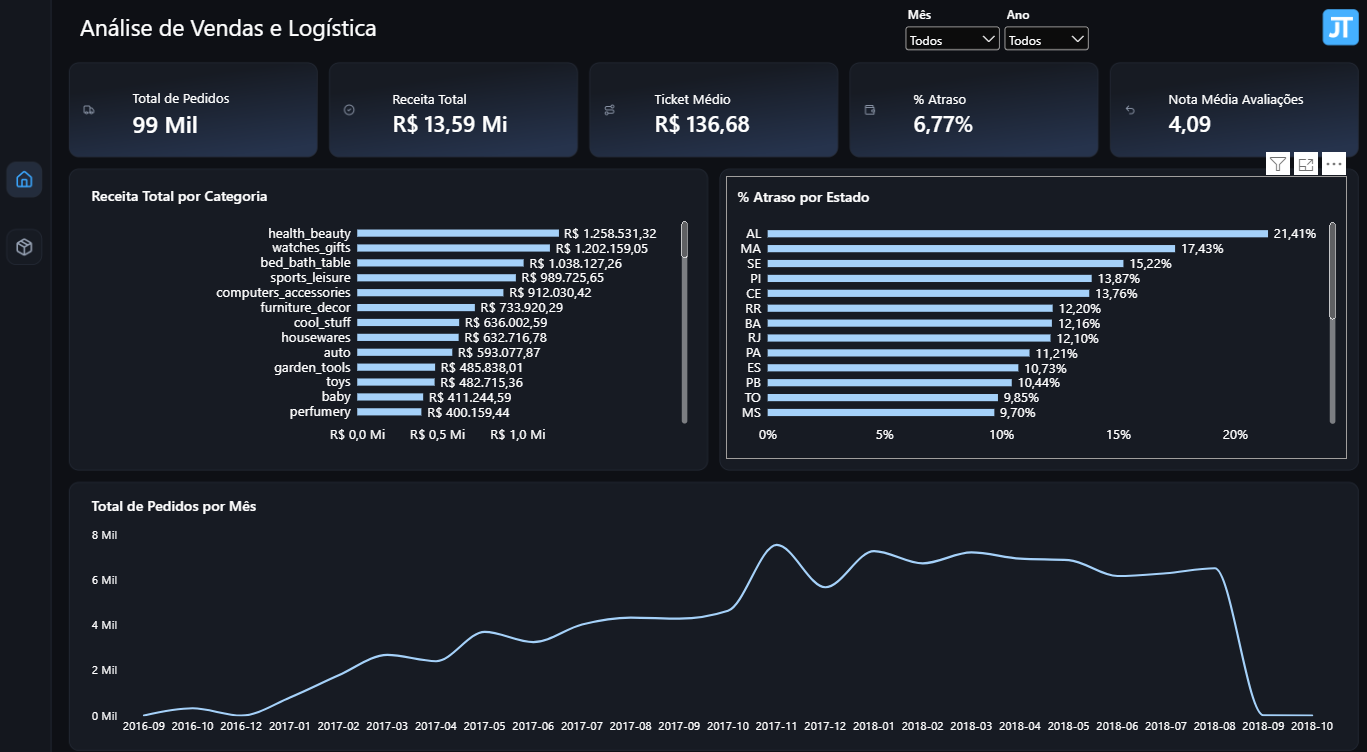

Layout of this report page (visuals, bound fields, positions):
{"tool":"powerbi","page":{"name":"Visão Geral","canvas":[1920,1080],"ordinal":0},"visuals":[{"type":"cardVisual","fields":{"Data":["Medidas.Total de Pedidos"]},"box":[172.9,118.4,251.6,104.2],"z":0},{"type":"cardVisual","fields":{"Data":["Medidas.Receita Total"]},"box":[534.7,118.4,268.7,104.4],"z":1000},{"type":"cardVisual","fields":{"Data":["Medidas.Ticket Médio"]},"box":[899.1,118.4,231.1,104.4],"z":2000},{"type":"cardVisual","fields":{"Data":["Medidas.% Atraso"]},"box":[1259.6,118.4,247.8,104.4],"z":3000},{"type":"cardVisual","fields":{"Data":["Medidas.Nota Média"]},"box":[1614.7,118.4,264.5,104.4],"z":4000},{"type":"clusteredBarChart","title":"Receita Total por Categoria","fields":{"Category":["fact_orders.main_category"],"Y":["Medidas.Receita Total"]},"box":[115.7,255.4,861.9,395],"z":5000},{"type":"lineChart","title":"Total de Pedidos por Mês","fields":{"Category":["fact_orders.purchase_month"],"Y":["Medidas.Total de Pedidos"]},"box":[115.7,686.3,1763.6,367.1],"z":6000},{"type":"clusteredBarChart","title":"% Atraso por Estado","fields":{"Category":["fact_orders.customer_state"],"Y":["Medidas.% Atraso"]},"box":[1014.8,256.7,864.6,394],"z":7000},{"type":"textbox","box":[115.6,26.5,664.1,47.3],"z":7001},{"type":"actionButton","box":[15.3,332.8,46,46],"z":7002},{"type":"slicer","fields":{"Values":["dCalendario.Ano"]},"box":[1397.9,18.1,126.7,64],"z":7003},{"type":"slicer","fields":{"Values":["dCalendario.MesNome"]},"box":[1260,18.1,140.6,64],"z":7004}]}

Visuals, with their boxes on the page's 1920x1080 design canvas (x1, y1, x2, y2). These are canvas units, not pixel positions in the 1367x752 screenshot, which may show the page scaled, cropped or inside an application window:
cardVisual - Medidas.Total de Pedidos: box=[173, 118, 424, 223]
cardVisual - Medidas.Receita Total: box=[535, 118, 803, 223]
cardVisual - Medidas.Ticket Médio: box=[899, 118, 1130, 223]
cardVisual - Medidas.% Atraso: box=[1260, 118, 1507, 223]
cardVisual - Medidas.Nota Média: box=[1615, 118, 1879, 223]
"Receita Total por Categoria" clusteredBarChart: box=[116, 255, 978, 650]
"Total de Pedidos por Mês" lineChart: box=[116, 686, 1879, 1053]
"% Atraso por Estado" clusteredBarChart: box=[1015, 257, 1879, 651]
textbox: box=[116, 26, 780, 74]
actionButton: box=[15, 333, 61, 379]
slicer - dCalendario.Ano: box=[1398, 18, 1525, 82]
slicer - dCalendario.MesNome: box=[1260, 18, 1401, 82]
